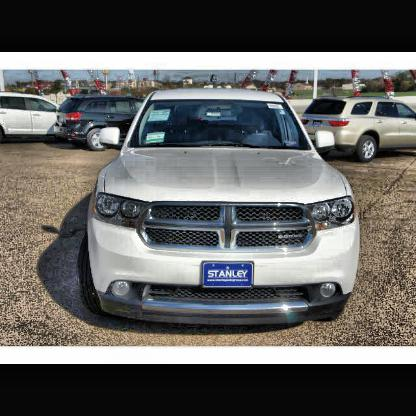Dodge Durango SUV 2012: (88, 89, 360, 326)
